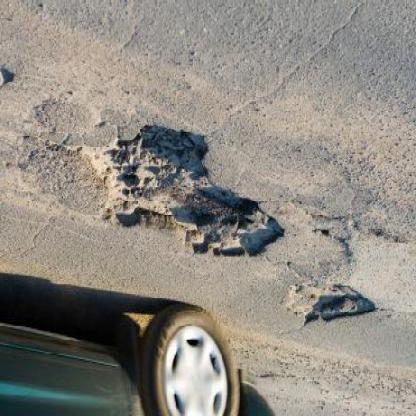pothole: (83, 126, 288, 266), (286, 285, 380, 330)
